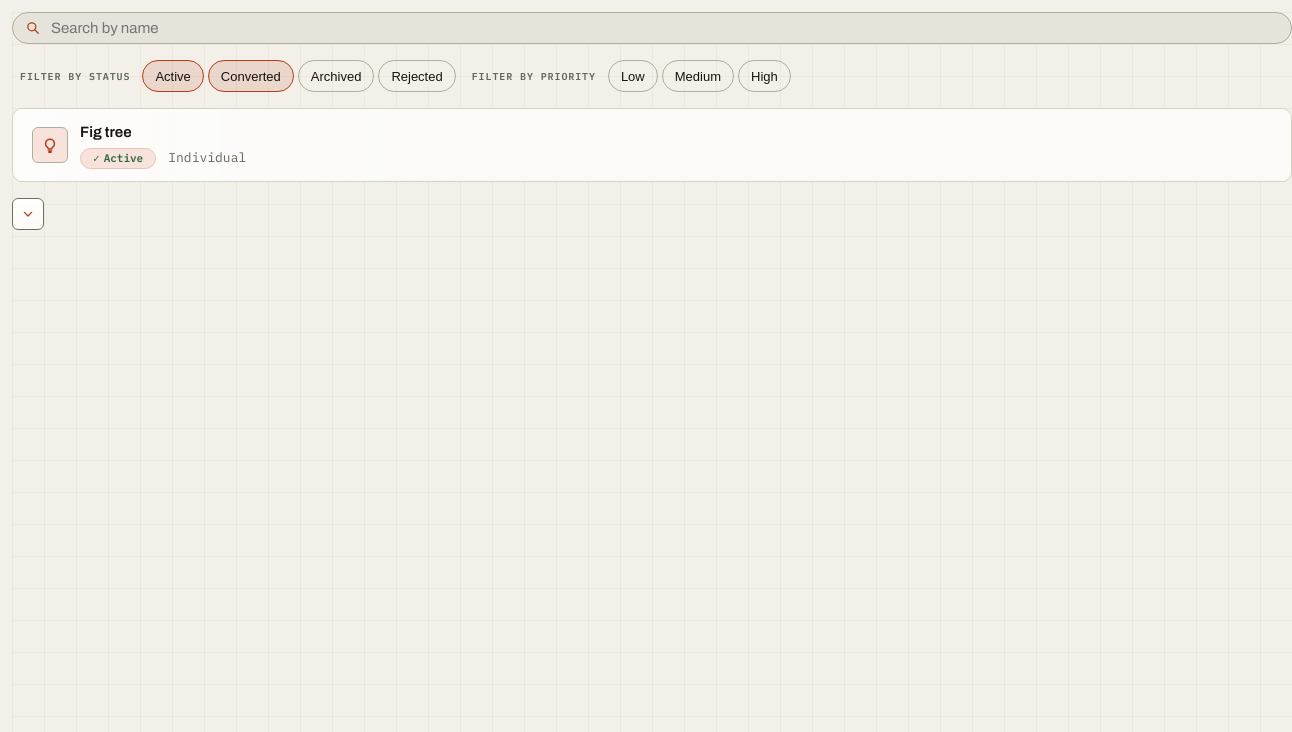
Scenario: CandidateList — search, filters, and pagination › loads the next page on "Load more", keeping the earlier page visible
This screenshot has width=1292, height=732.
Expected: the text "Fig tree" is shown, [80,124,132,140]
Expected: the text "Apple tree" is not shown
Click the button named "Load more" at (28, 214), box [12,198,44,230]
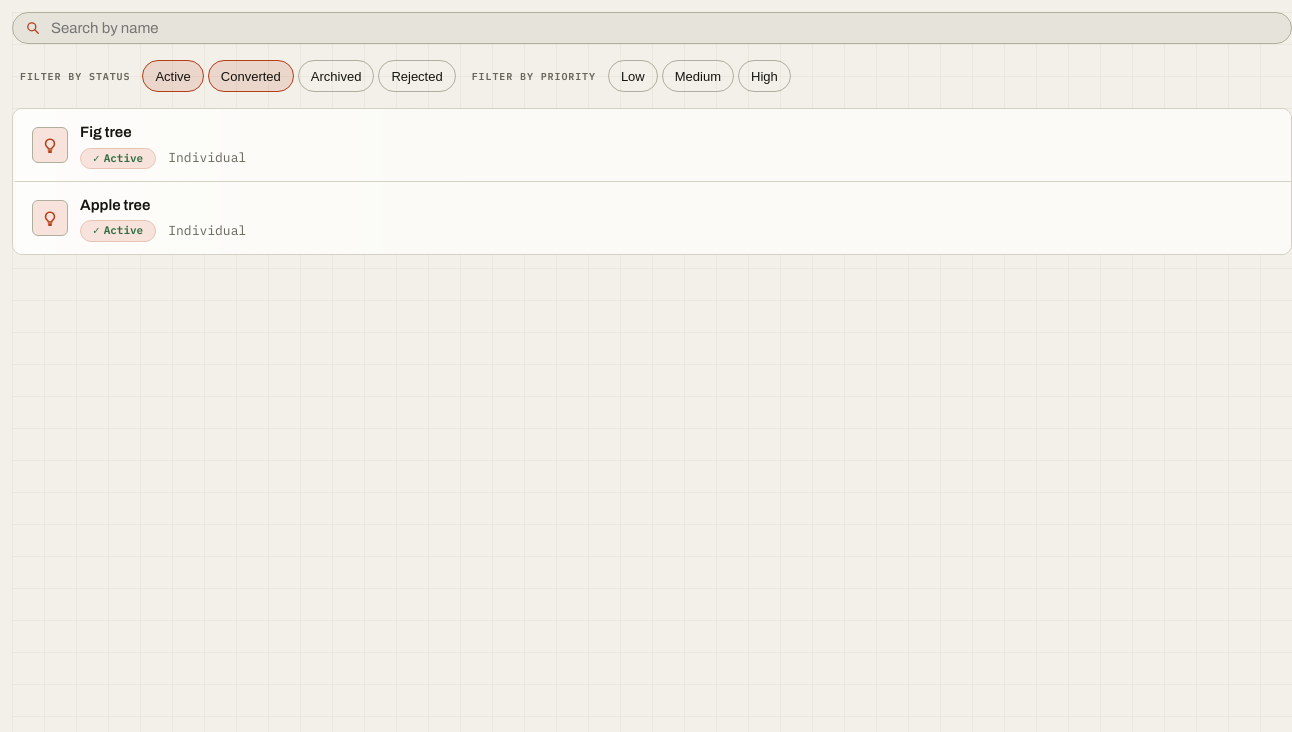
Expected: the text "Fig tree" is shown, [80,124,132,140]
Now the text "Apple tree" is shown, box [80,197,150,213]
